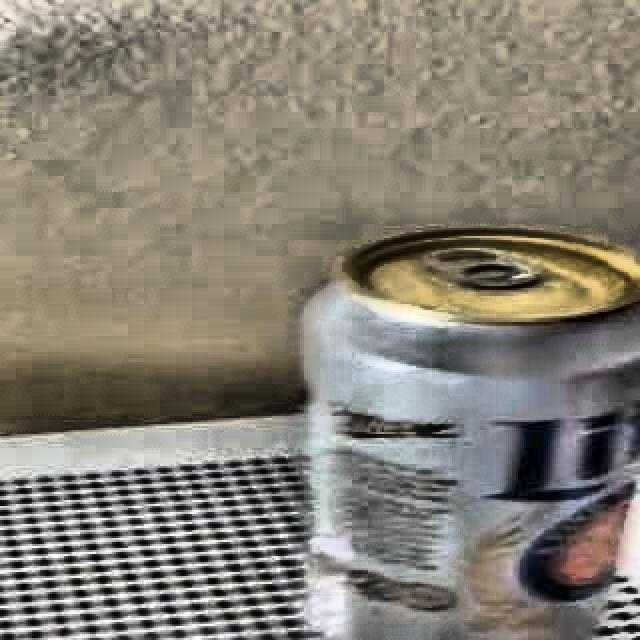metal: (292, 198, 640, 640)
